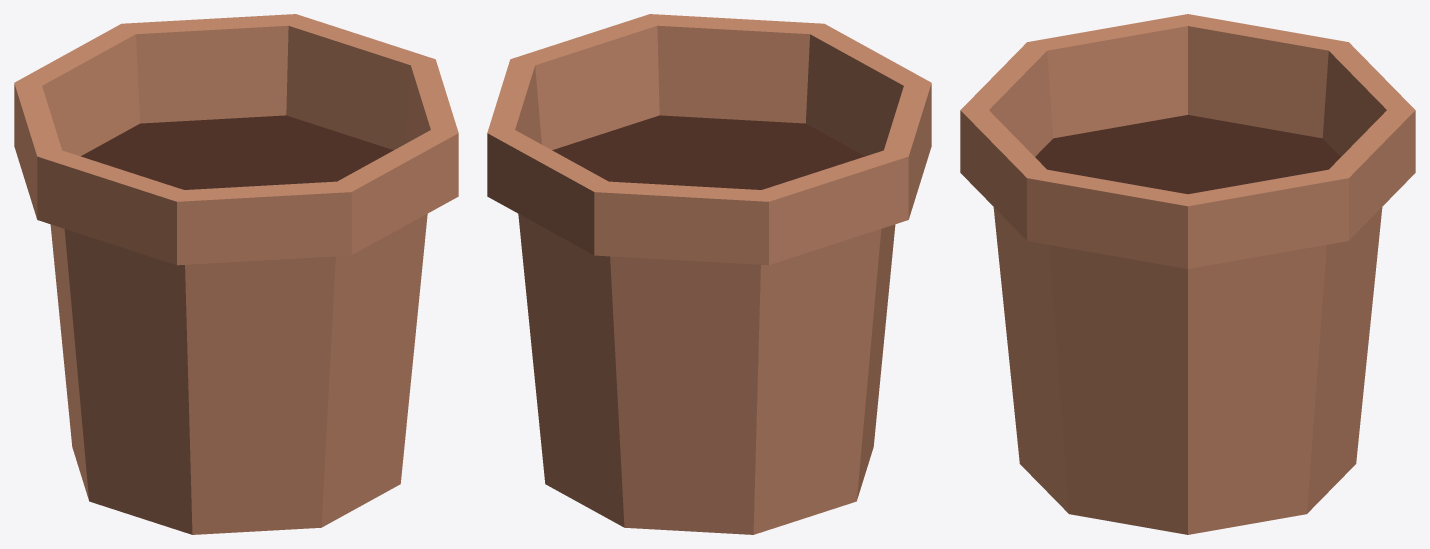
File: FlowerPot2Soil.fbx
3 renders of one model, left to right at view 1: azimuth 30°, elevation 25°; view 2: azimuth 150°, elevation 25°; view 3: azimuth 270°, elevation 25°, orthographic.
Parts seen in each view (by area): view 1: Cylinder; view 2: Cylinder; view 3: Cylinder.
Part boxes in pixels (<box>): Cylinder: <box>14,14,458,534</box>; Cylinder: <box>487,14,931,534</box>; Cylinder: <box>960,14,1415,534</box>.
Bounding box in the file's own units: 0.46 × 0.3945 × 0.46.
